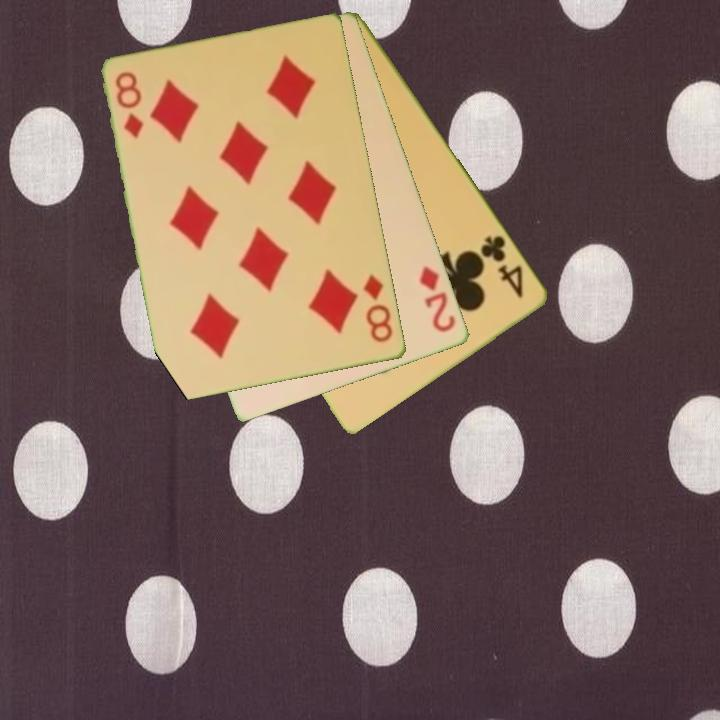2d: (417, 263, 459, 336)
4c: (477, 232, 527, 301)
8d: (360, 271, 396, 346), (112, 68, 147, 141)
